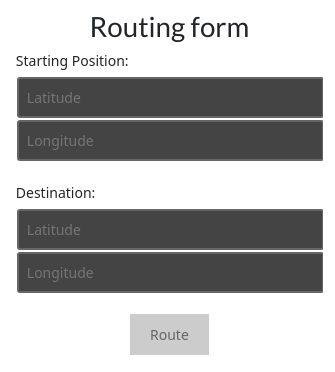
route can be pressed with valid coordinates
Expected: the button "Route" is disabled, [130, 314, 209, 355]
Type "9" into the field with placeholder "Latitude" below "Starting Position".
click(170, 98); type("9")  # box [17, 77, 323, 118]
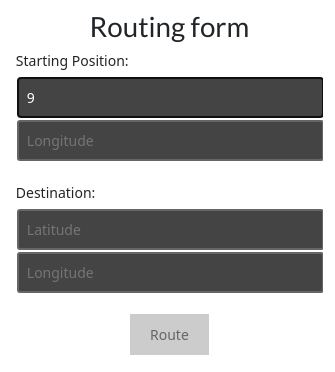
Type "9" into the field with placeholder "Longitude" below "Starting Position".
click(170, 141); type("9")  # box [17, 120, 323, 161]
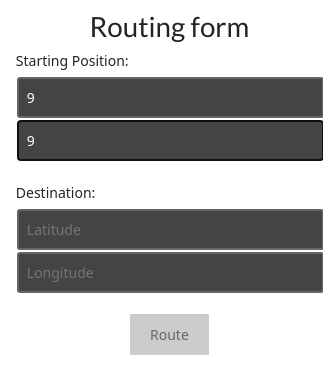
Type "9" into the field with placeholder "Latitude".
click(170, 230); type("9")  # box [17, 209, 323, 250]
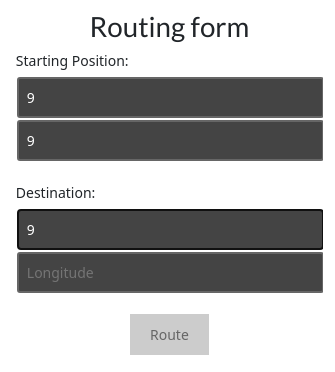
Type "9" into the field with placeholder "Longitude".
click(170, 273); type("9")  # box [17, 252, 323, 293]
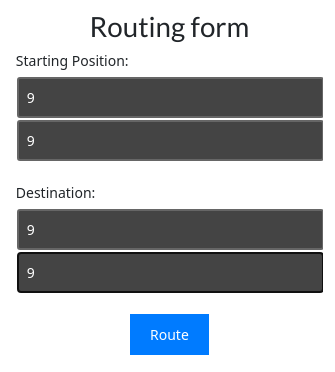
Expected: the button "Route" is enabled, [130, 314, 209, 355]
